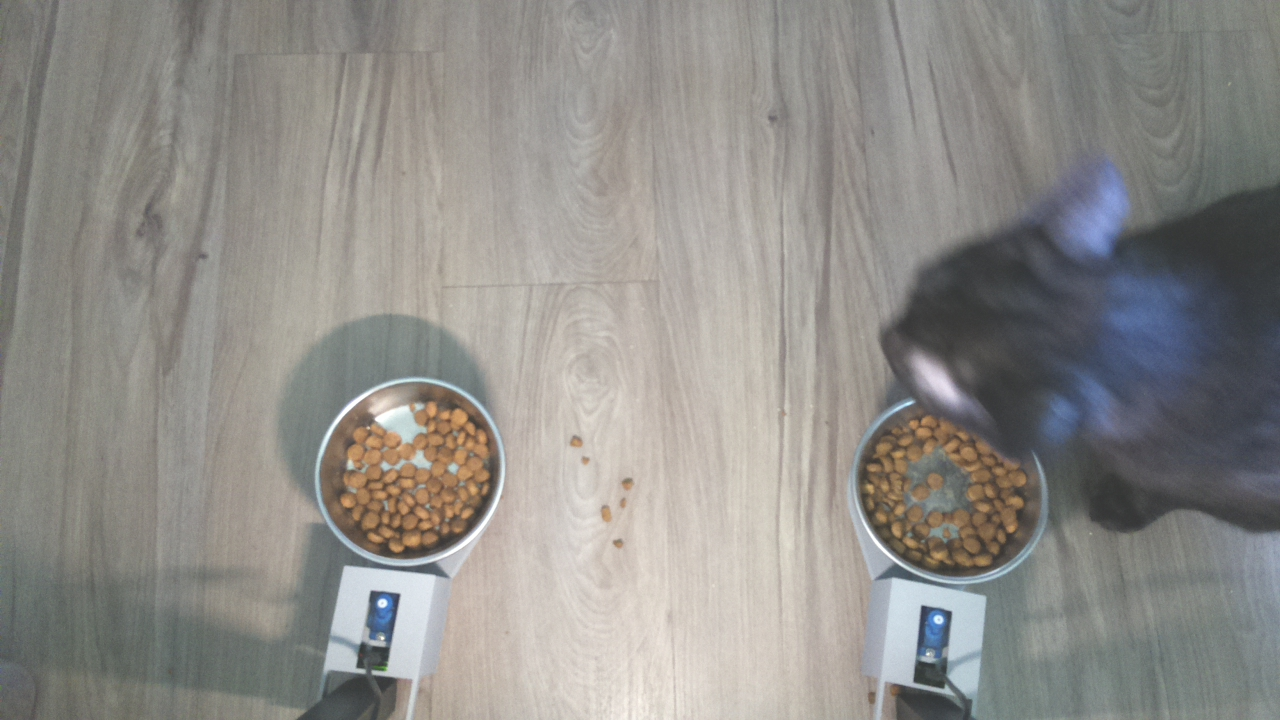open_bowl: (309, 375, 508, 569), (844, 405, 1050, 586)
saki: (868, 154, 1150, 441)
